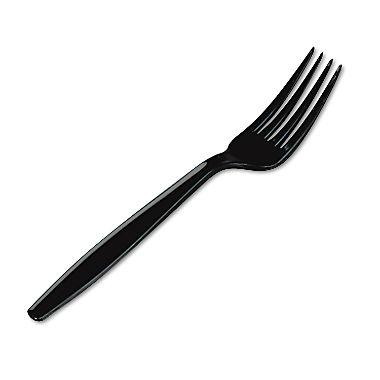Fork: (27, 46, 342, 321)
